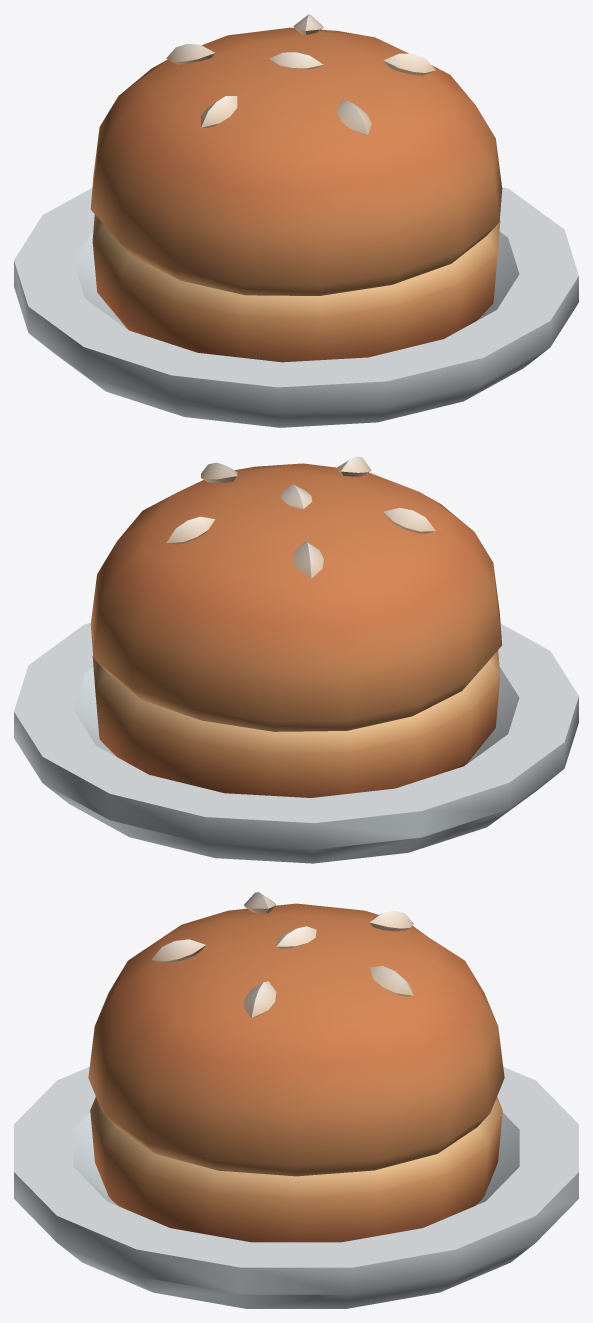
Rendered from plate_bun.glb.
3 renders of one model, top to bottom at view 1: azimuth 30°, elevation 25°; view 2: azimuth 150°, elevation 25°; view 3: azimuth 270°, elevation 25°, orthographic.
Visible parts, largest first — view 1: food_ingredient_bun, plate; view 2: food_ingredient_bun, plate; view 3: food_ingredient_bun, plate.
Part boxes in pixels (box(x1,y1,x2,y2)): food_ingredient_bun: box(90, 14, 502, 362); plate: box(14, 187, 578, 427); food_ingredient_bun: box(90, 456, 502, 797); plate: box(14, 622, 578, 863); food_ingredient_bun: box(88, 892, 504, 1242); plate: box(14, 1067, 578, 1308).
Bounding box in the file's own units: 0.95 × 0.5072 × 0.95.
2 materials, 2 textured.
